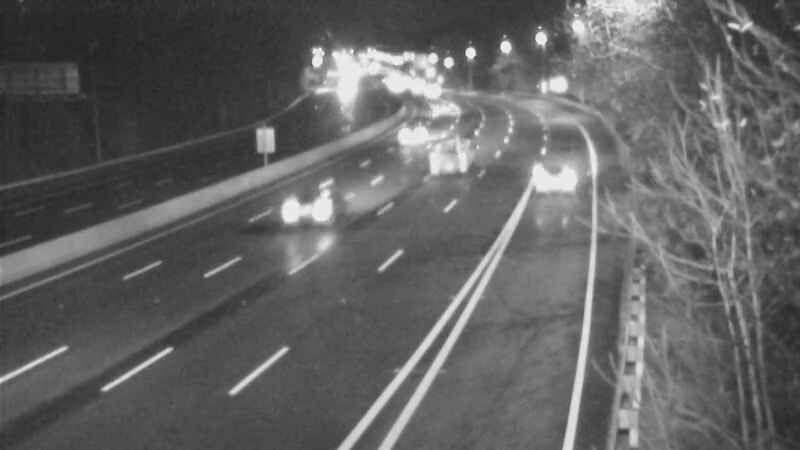vehicle: (411, 116, 491, 196), (521, 132, 601, 212), (274, 169, 354, 249), (406, 65, 456, 115), (410, 88, 460, 138), (393, 102, 443, 152)
